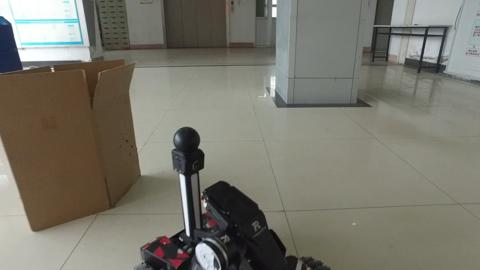chariot: (140, 123, 329, 270)
